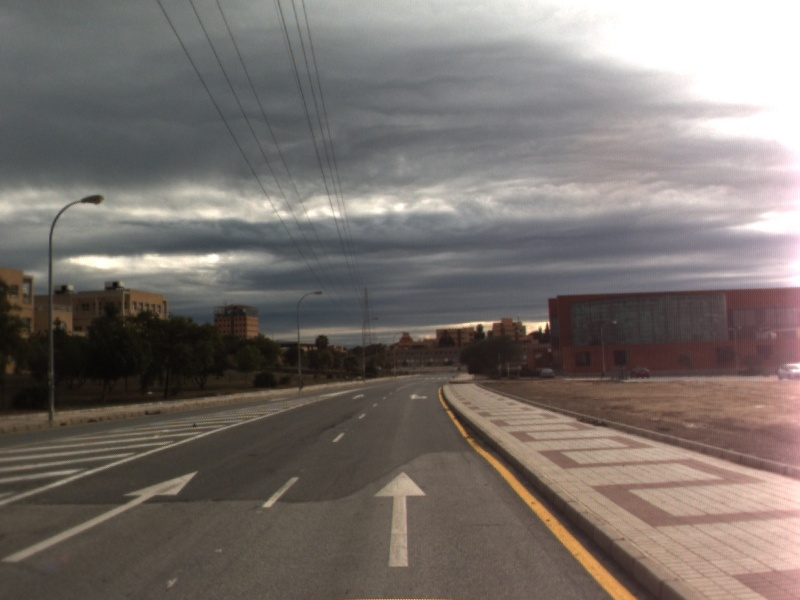STRAIGHT: (1, 469, 201, 564), (372, 470, 429, 569)
STRAIGHT_RIGHT: (407, 392, 429, 401)
